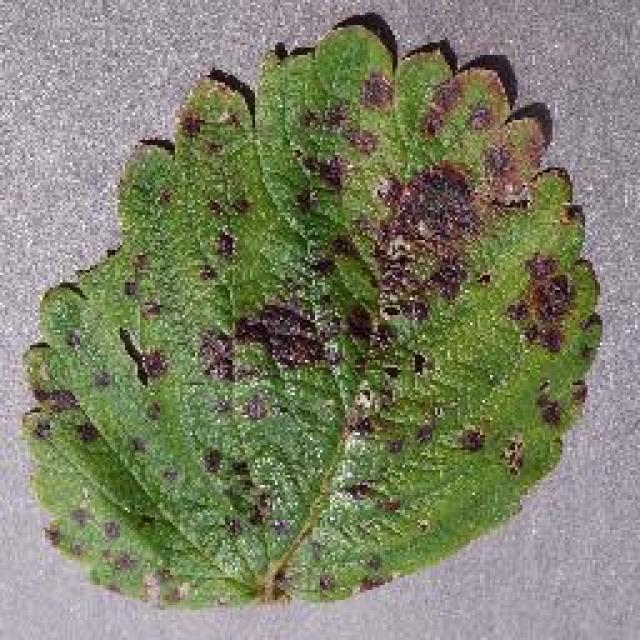Strawberry leaf scorch: (162, 145, 546, 490)
